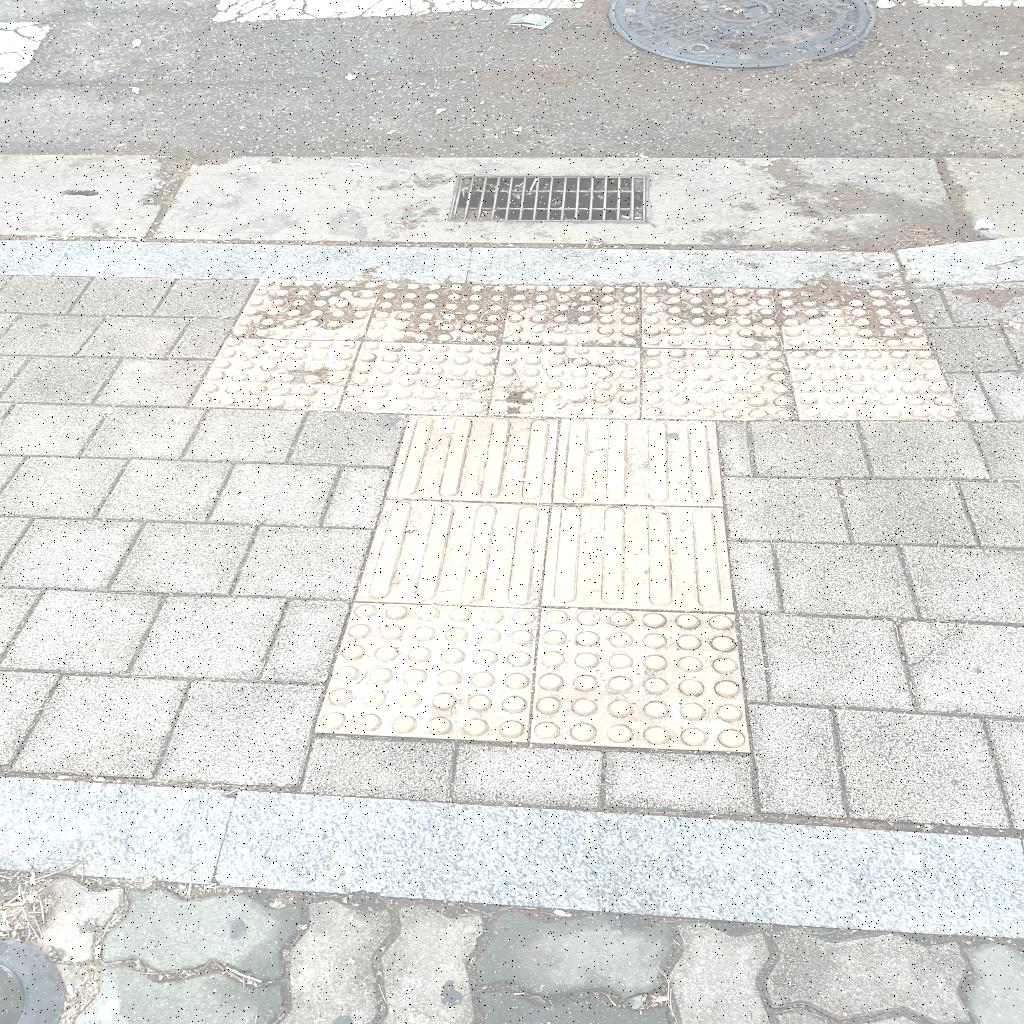Stop block normal: (531, 608, 753, 751), (318, 602, 538, 739), (341, 341, 498, 416), (643, 349, 795, 421), (492, 345, 640, 417)
Straight block normal: (357, 499, 547, 607), (543, 506, 734, 610), (389, 415, 557, 501), (554, 420, 723, 504)
